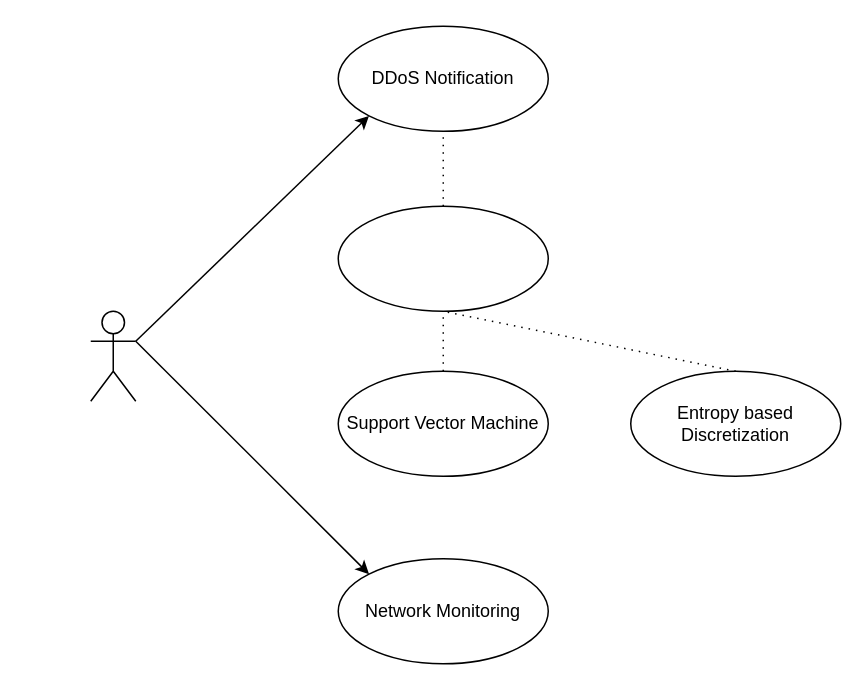
Image size: 867x690. Some labels were removed from this diagram. Each missing label, with the centre of its shape:
"Detetcion of DDoS" goes at [442,258].
"Network Administrator" goes at [112,355].
